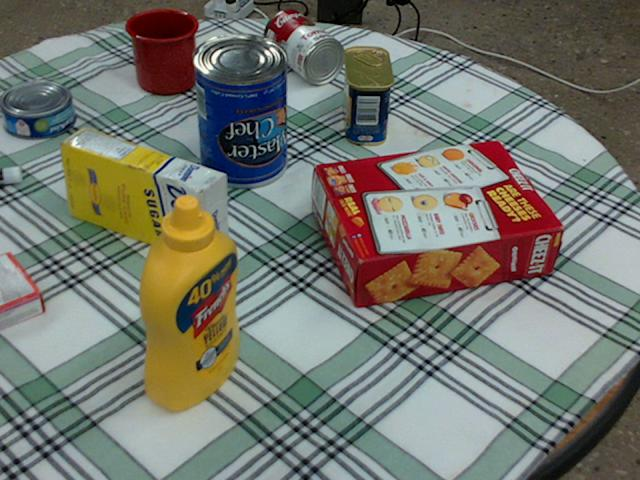cracker_box: (314, 140, 563, 308)
gelatin_box: (0, 252, 45, 329)
large_marker: (0, 166, 21, 184)
master_chef_can: (190, 33, 285, 187)
mug: (126, 8, 199, 92)
mustard_bottle: (137, 195, 238, 409)
potted_meat_can: (341, 46, 392, 144)
sugar_box: (59, 127, 227, 265)
tomato_soup_can: (264, 8, 343, 83)
tuna_fish_can: (0, 80, 75, 138)
